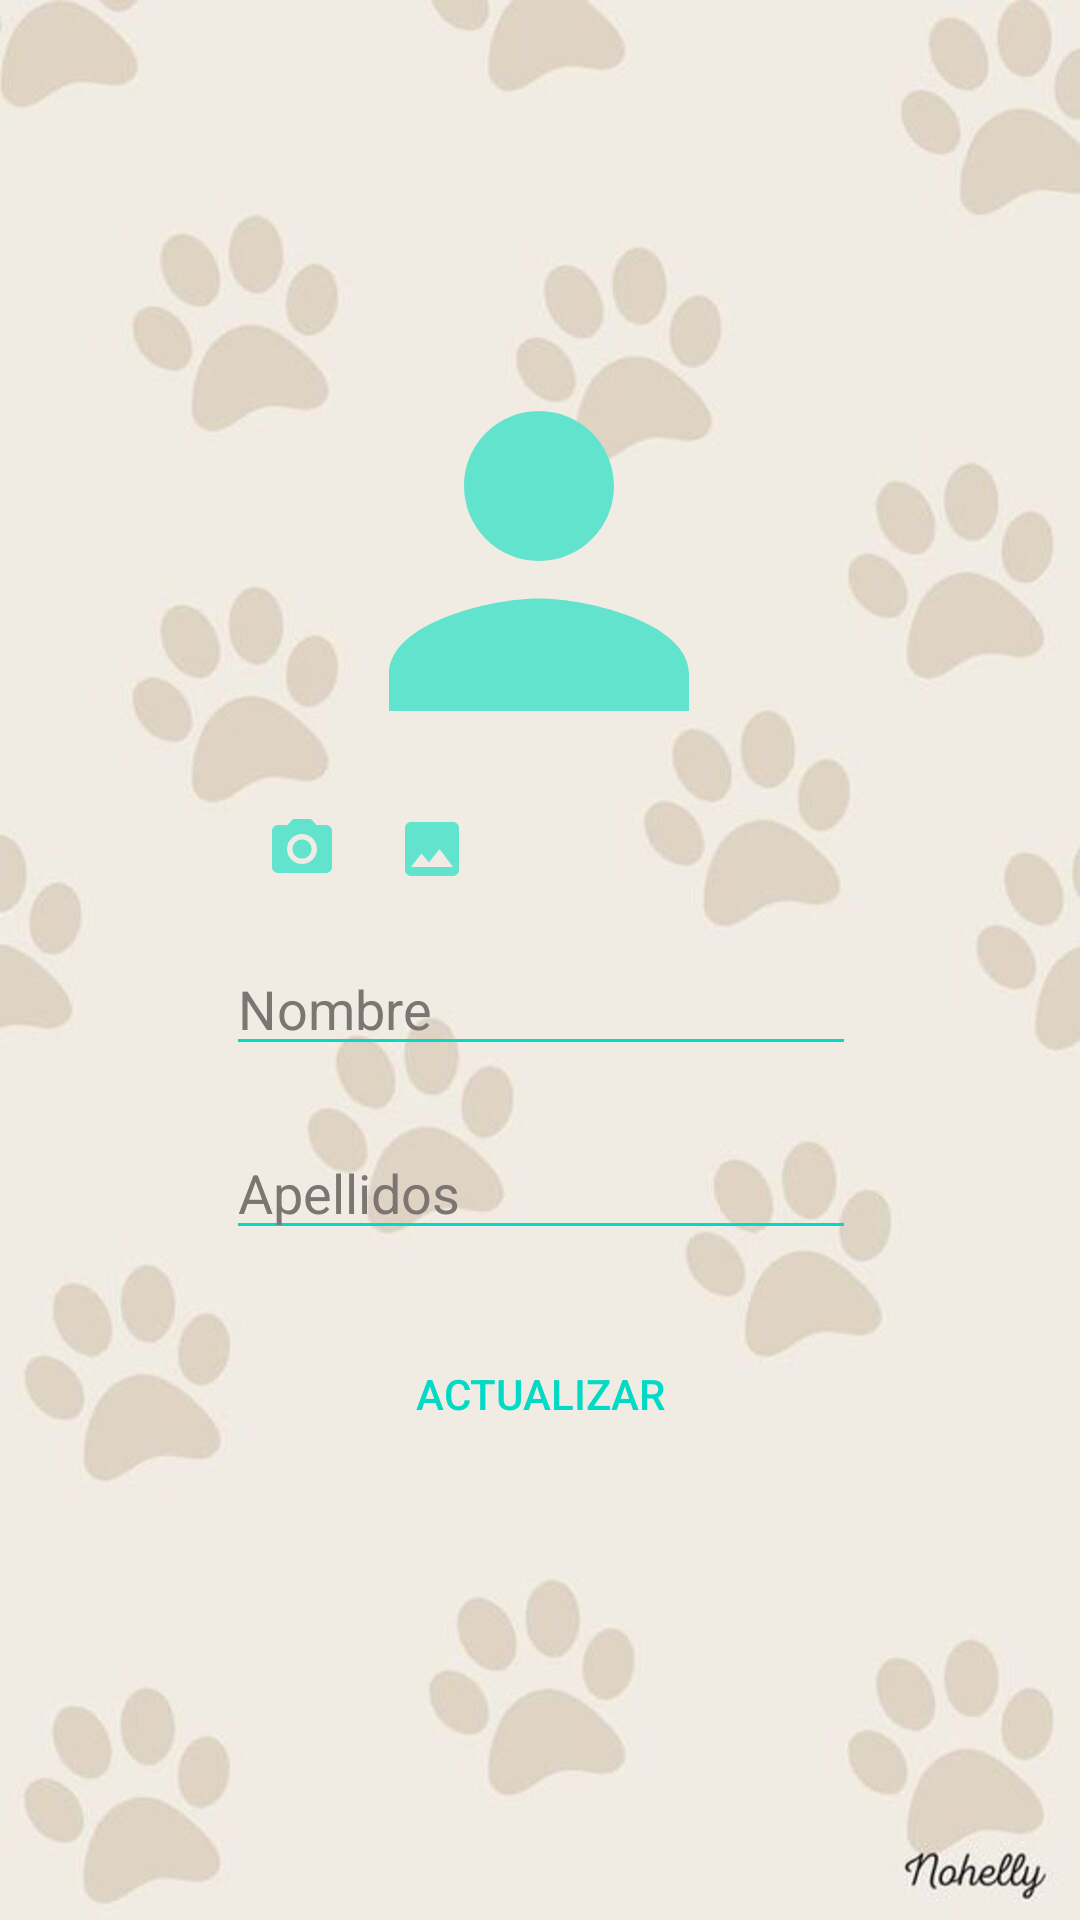

Point at icon controls on the screen. Image size 1080 × 1920, points as point (x, y).
camara: point (302, 846)
galeria: point (432, 849)
